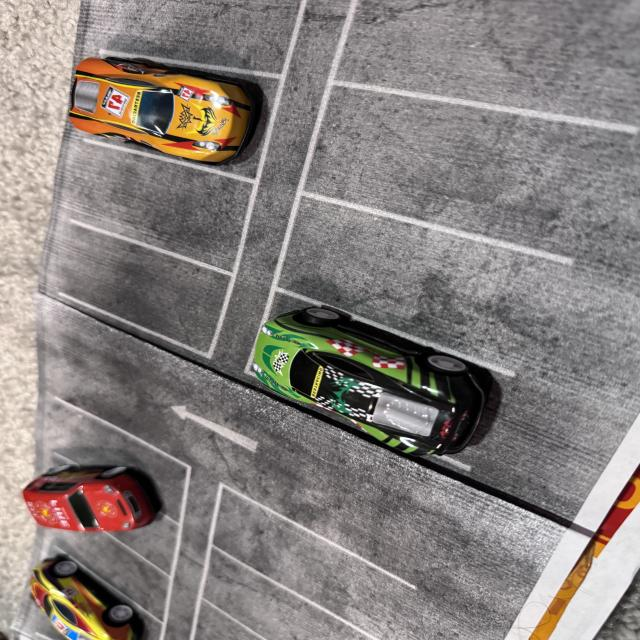Car: (232, 282, 534, 457), (64, 27, 253, 164), (0, 554, 223, 640), (29, 458, 132, 536)
